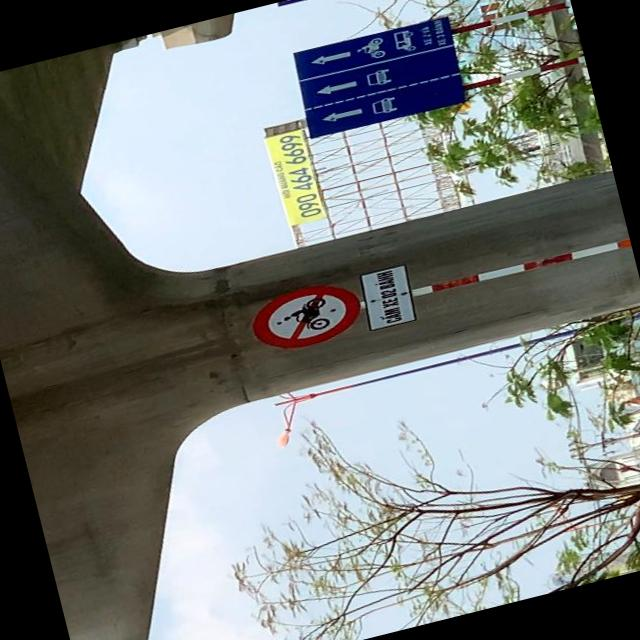P-104: (242, 274, 368, 356)
